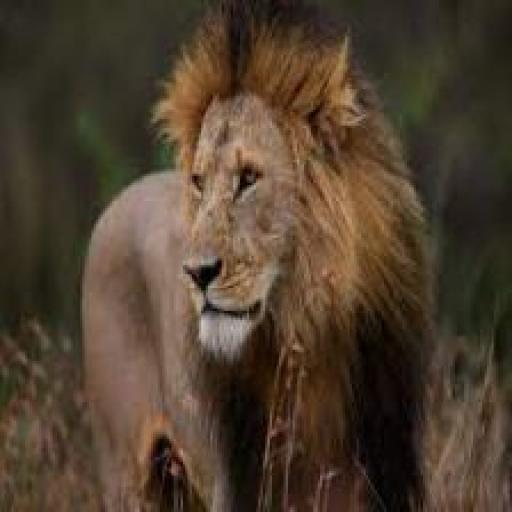lion: (57, 12, 461, 508)
